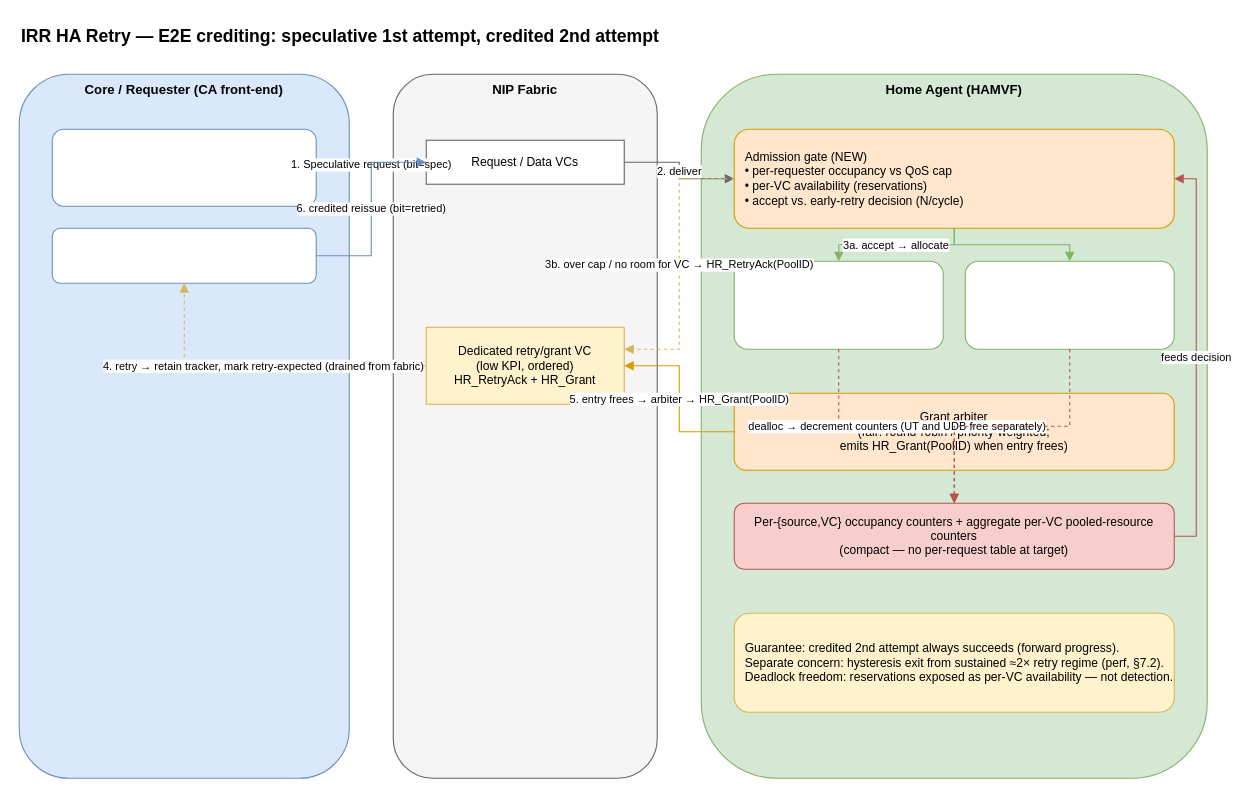
The diagram is 1251 pixels wide and 798 high, and some of its shapes have lost their labels. The shapes that lost their labels are listed below. From the top down, each one's centre as x and y in pixels, then its label:
At (x=183, y=167): "Request tracker (full per-request state: addr, opcode, VC, PoolID)".
At (x=183, y=255): "Speculative-ongoing counter (back off speculation → credited)".
At (x=838, y=304): "Unified Tracker (UT) all outstanding txns (finite, reserved entries)".
At (x=1069, y=304): "HA Data Buffer (UDB) shared, fewer than UT CMI / mesh / shared pools".
